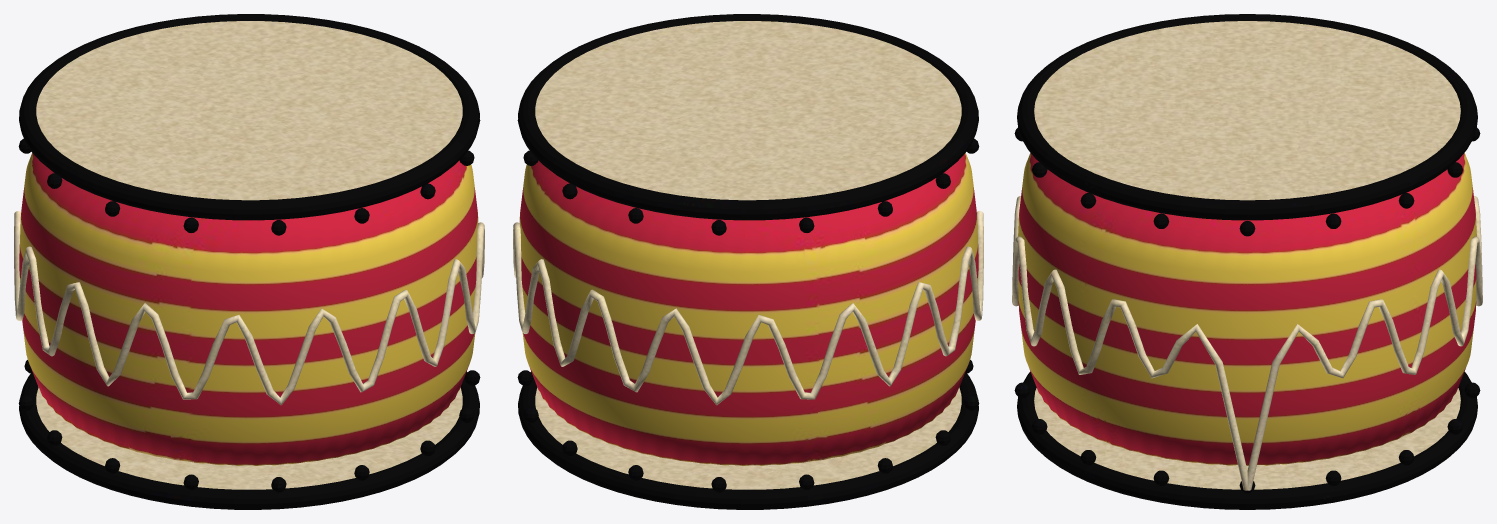
File: dhol.glb
3 views of the same model, side by side, from view 1: azimuth 30°, elevation 25°; view 2: azimuth 150°, elevation 25°; view 3: azimuth 270°, elevation 25° (orthographic).
Visible parts, largest first — view 1: dhol; view 2: dhol; view 3: dhol.
Part boxes in pixels (<box>): dhol: <box>14,14,484,509</box>; dhol: <box>513,14,983,509</box>; dhol: <box>1012,14,1482,509</box>.
Bounding box in the file's own units: 2.1 × 1.51 × 2.09.
1 material, 1 textured.
